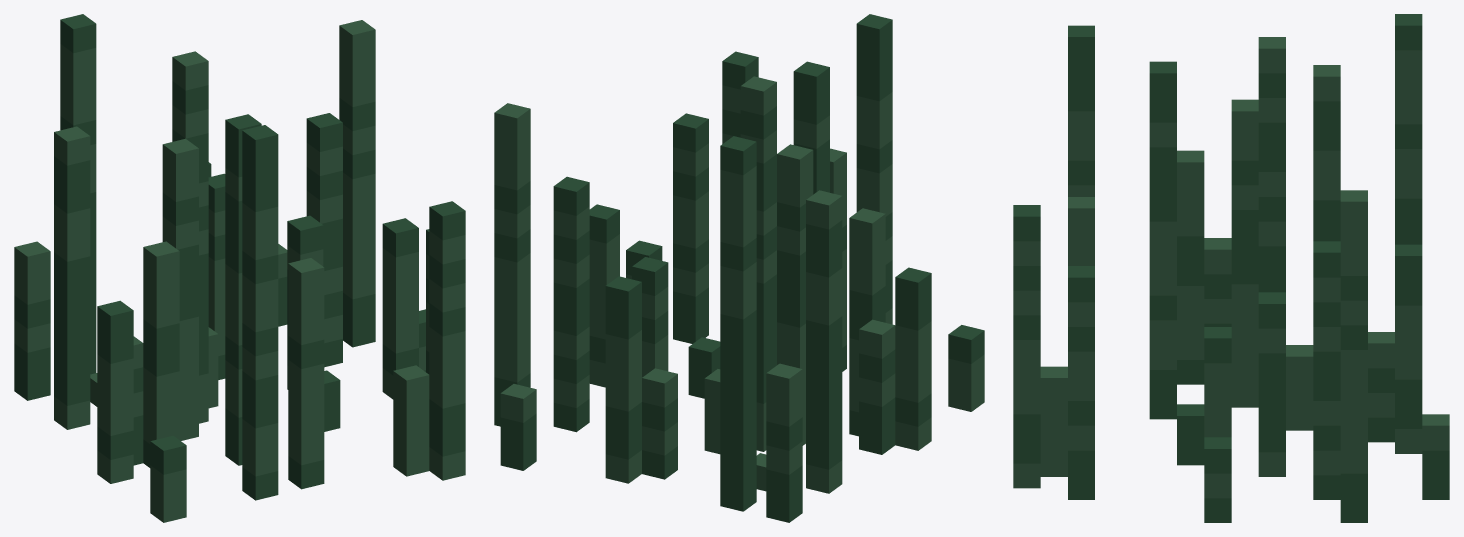
The model's file is Medieval Town - Free Sample-7-Grass-1.obj.
3 views of the same model, side by side, from view 1: azimuth 30°, elevation 25°; view 2: azimuth 150°, elevation 25°; view 3: azimuth 270°, elevation 25° (orthographic). The views are drawn at different scales.
Parts seen in each view (by area): view 1: Grass-1; view 2: Grass-1; view 3: Grass-1.
Boxes of the visible parts, x1,y1,x2,y2 form: Grass-1: (14,14,465,522); Grass-1: (494,14,984,522); Grass-1: (1013,14,1449,522).
Bounding box in the file's own units: 0.3 × 0.3 × 0.32.
1 material, 1 textured.
